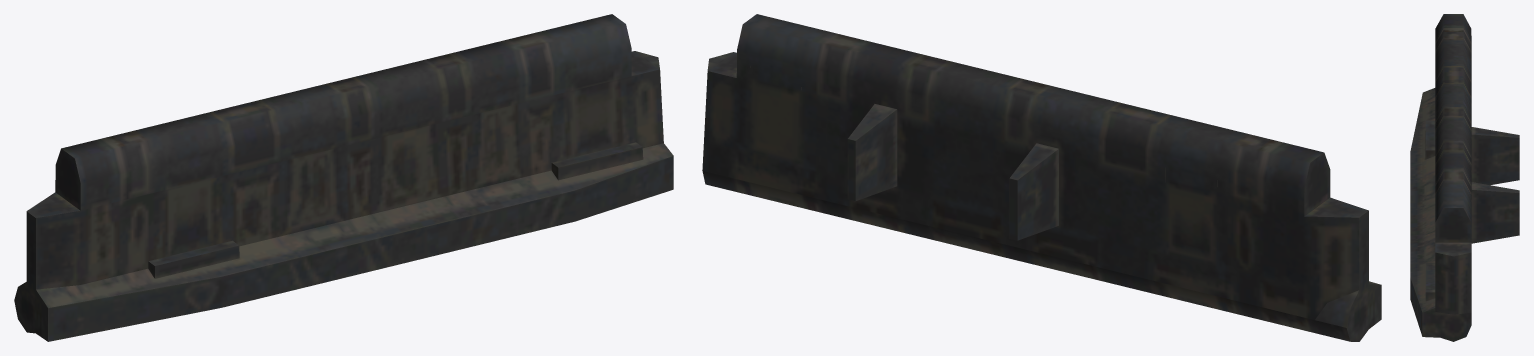
3 renders of one model, left to right at view 1: azimuth 30°, elevation 25°; view 2: azimuth 150°, elevation 25°; view 3: azimuth 270°, elevation 25°, orthographic. The views are drawn at different scales.
Parts seen in each view (by area): view 1: set_0_group_0; view 2: set_0_group_0; view 3: set_0_group_0.
Part boxes in pixels (x1,y1,x2,y2): set_0_group_0: (14,14,673,341); set_0_group_0: (702,14,1381,341); set_0_group_0: (1410,14,1519,341).
Size of the model in its own units: 0.8 by 0.2045 by 0.1665.
Materials: 1 (1 with a texture image).
